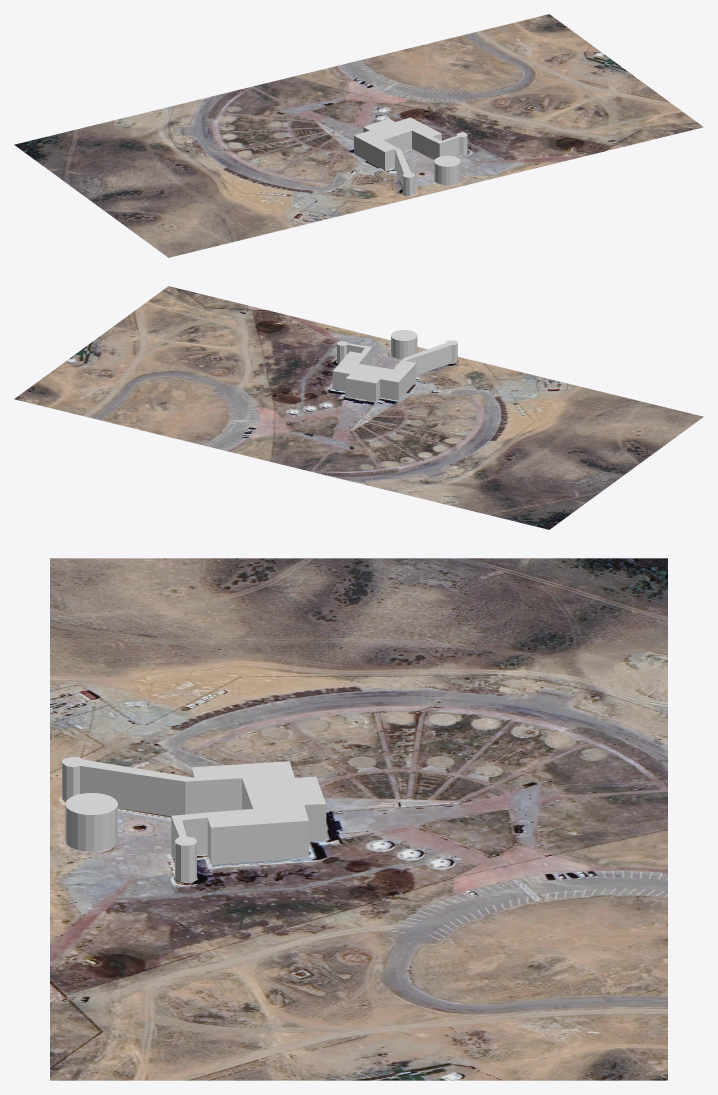
Rendered from MavzoleyDjuchixana.glb.
The picture shows the model from 3 angles, top to bottom: view 1: azimuth 30°, elevation 25°; view 2: azimuth 150°, elevation 25°; view 3: azimuth 270°, elevation 25°; orthographic projection. The views are drawn at different scales.
Parts seen in each view (by area): view 1: EXPORT_GOOGLE_SAT_WM, Areas:building; view 2: EXPORT_GOOGLE_SAT_WM, Areas:building; view 3: EXPORT_GOOGLE_SAT_WM, Areas:building.
Part boxes in pixels (x1=…): EXPORT_GOOGLE_SAT_WM: x1=14, y1=14, x2=703, y2=257; Areas:building: x1=354, y1=117, x2=467, y2=195; EXPORT_GOOGLE_SAT_WM: x1=14, y1=286, x2=703, y2=529; Areas:building: x1=332, y1=330, x2=457, y2=401; EXPORT_GOOGLE_SAT_WM: x1=50, y1=558, x2=667, y2=1080; Areas:building: x1=62, y1=756, x2=326, y2=882.
Size of the model in its own units: 2.99e+07 by 1106704 by 1.49e+07.
2 materials, 1 textured.
